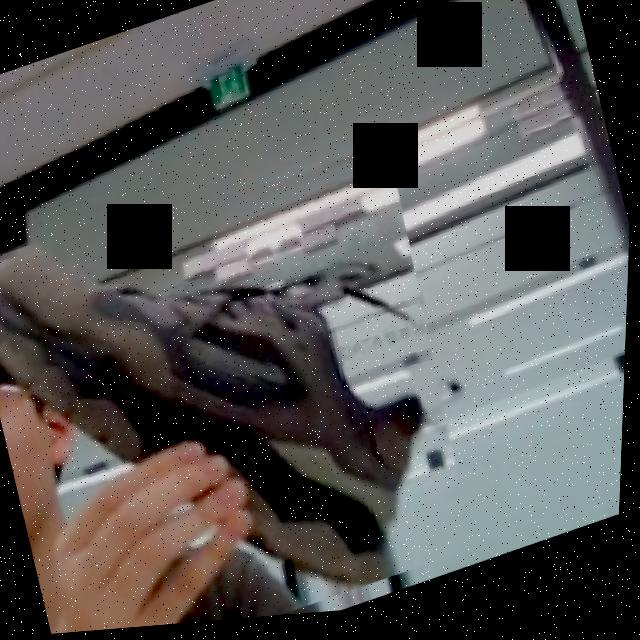shoe: (0, 122, 500, 640)
